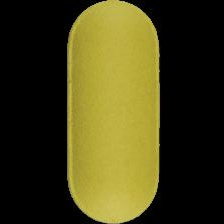50268-693: (0, 0, 224, 224)
